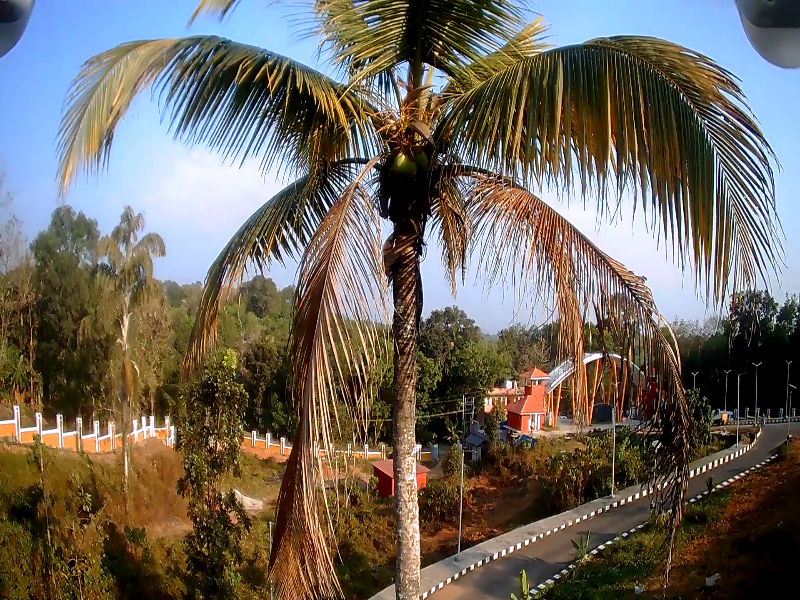coconut: (388, 147, 408, 174)
